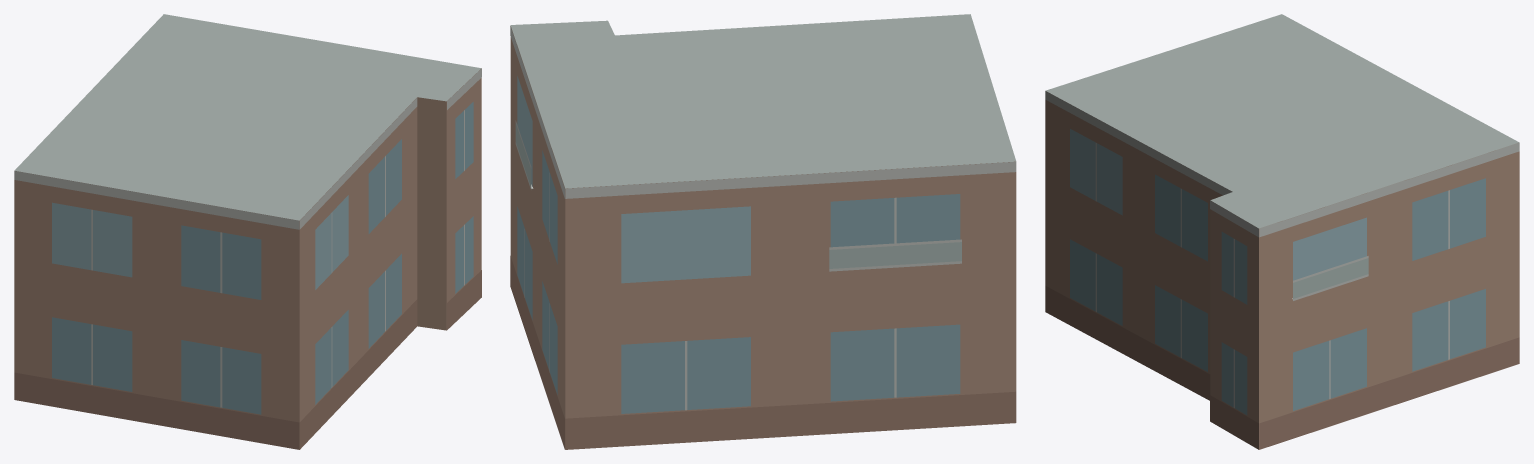
File: survey-upis-32474349.glb
3 renders of one model, left to right at view 1: azimuth 30°, elevation 25°; view 2: azimuth 150°, elevation 25°; view 3: azimuth 270°, elevation 25°, orthographic. The views are drawn at different scales.
Parts seen in each view (by area): view 1: survey-upis-32474349.tmp; view 2: survey-upis-32474349.tmp; view 3: survey-upis-32474349.tmp.
Part boxes in pixels (x1,y1,x2,y2): survey-upis-32474349.tmp: (14,14,481,449); survey-upis-32474349.tmp: (510,14,1016,449); survey-upis-32474349.tmp: (1045,14,1519,449).
Bounding box in the file's own units: 12.7 × 6.1 × 11.86.
